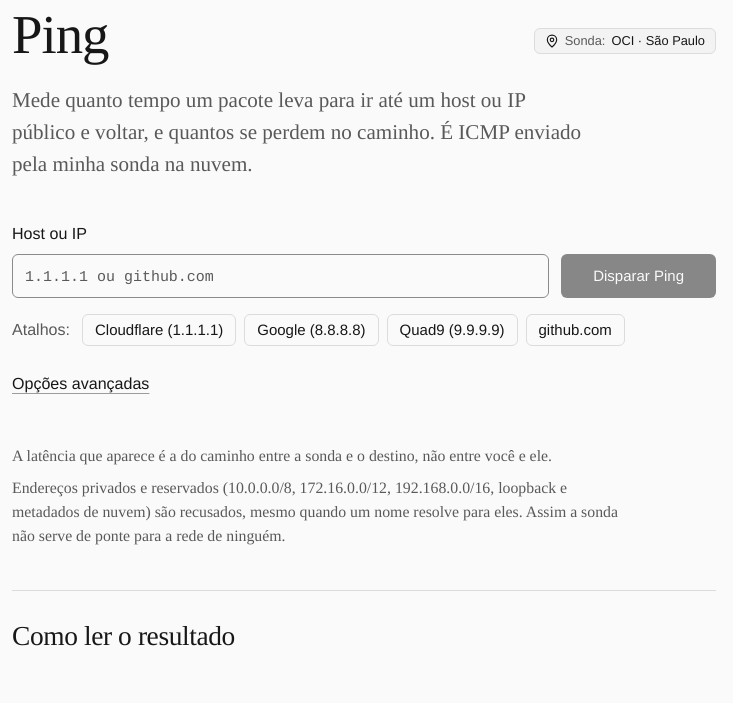
Test: Ping (comportamento) › perda parcial continua respondendo, com a perda dita no veredicto
Type "example.com" into the field at coordinates (281, 276), box [12, 254, 549, 298]
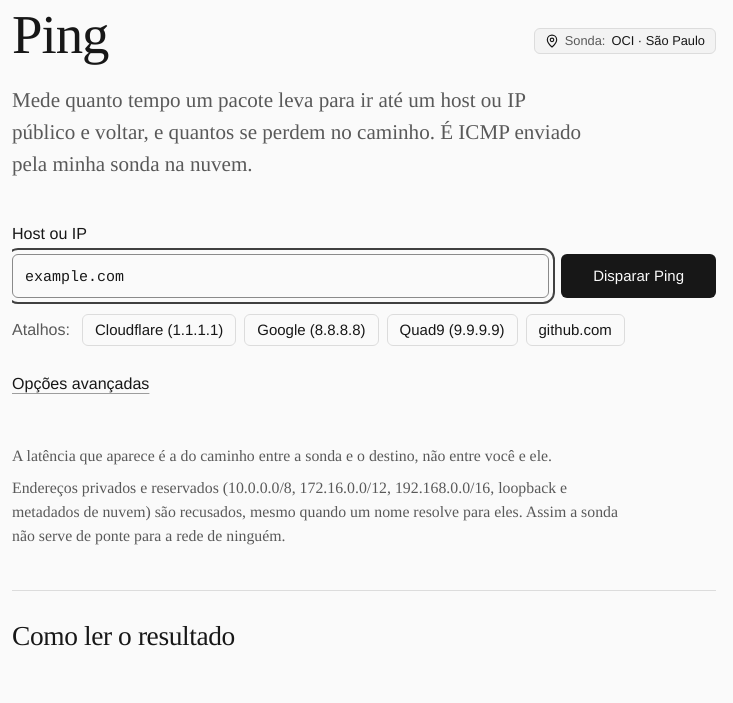
Click the button "Disparar Ping" at coordinates (639, 276), box [561, 254, 716, 298]
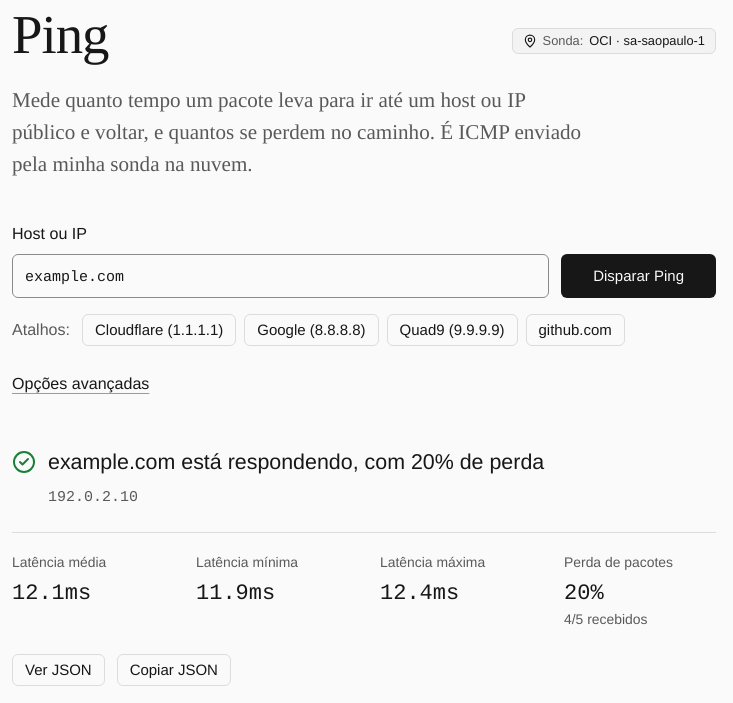
Check: the heading "example.com está respondendo, com 20% de perda" is shown, box [48, 446, 544, 478]
